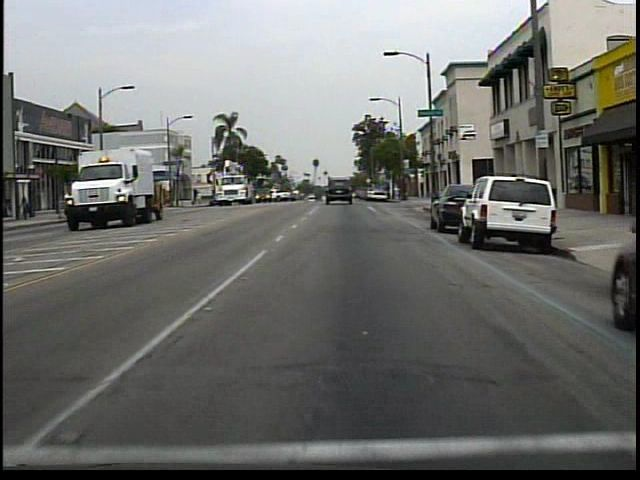person: (24, 193, 34, 221)
